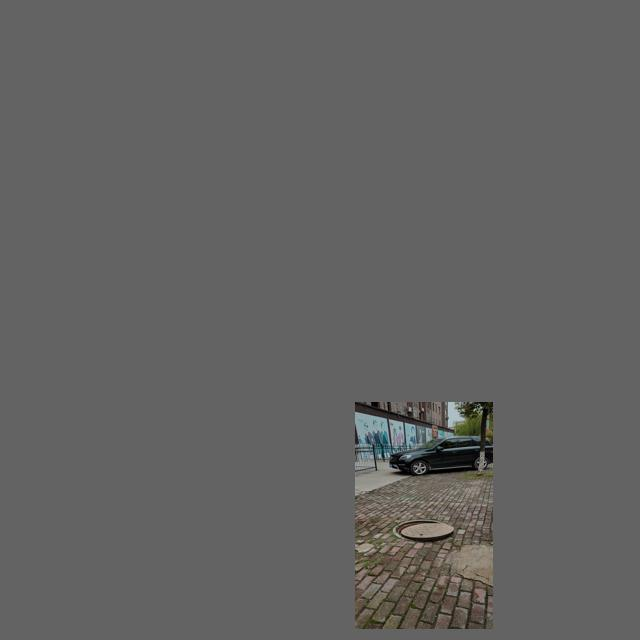uncovered: (393, 519, 454, 541)
